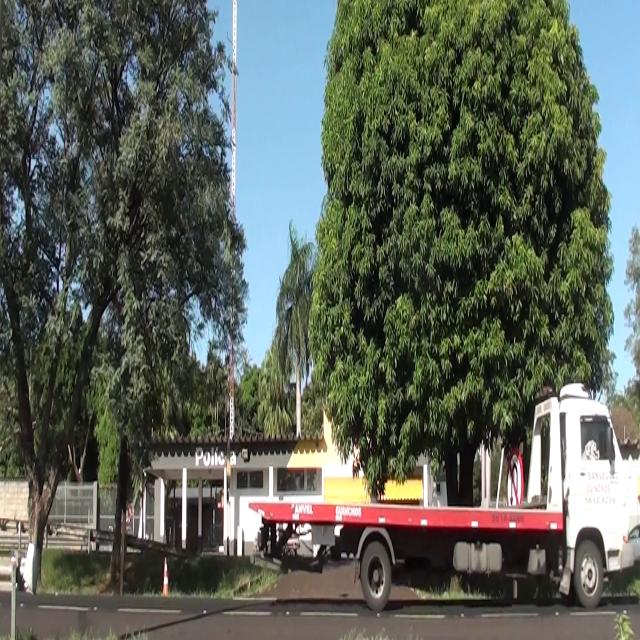-axle: (361, 543, 392, 607), (574, 545, 604, 605)
